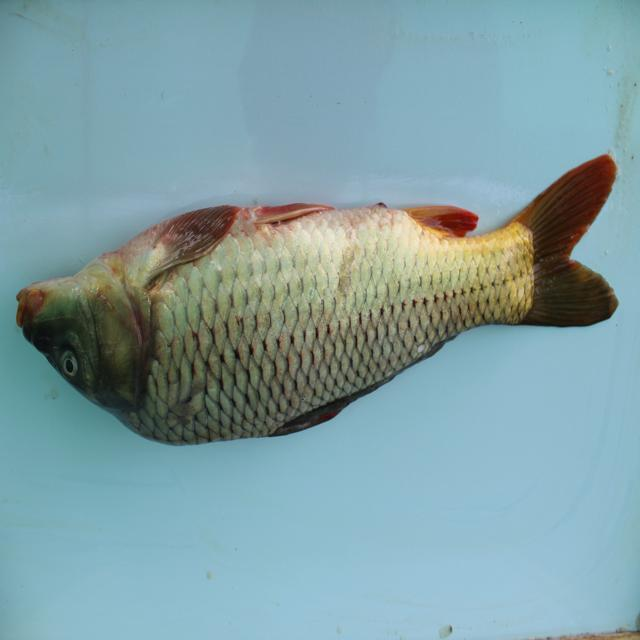CommonCarp: (17, 155, 631, 455)
